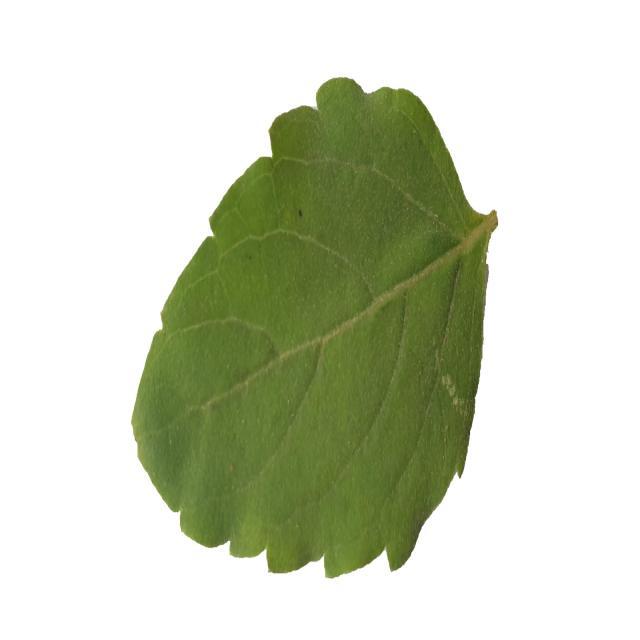tulsi: (123, 72, 497, 577)
